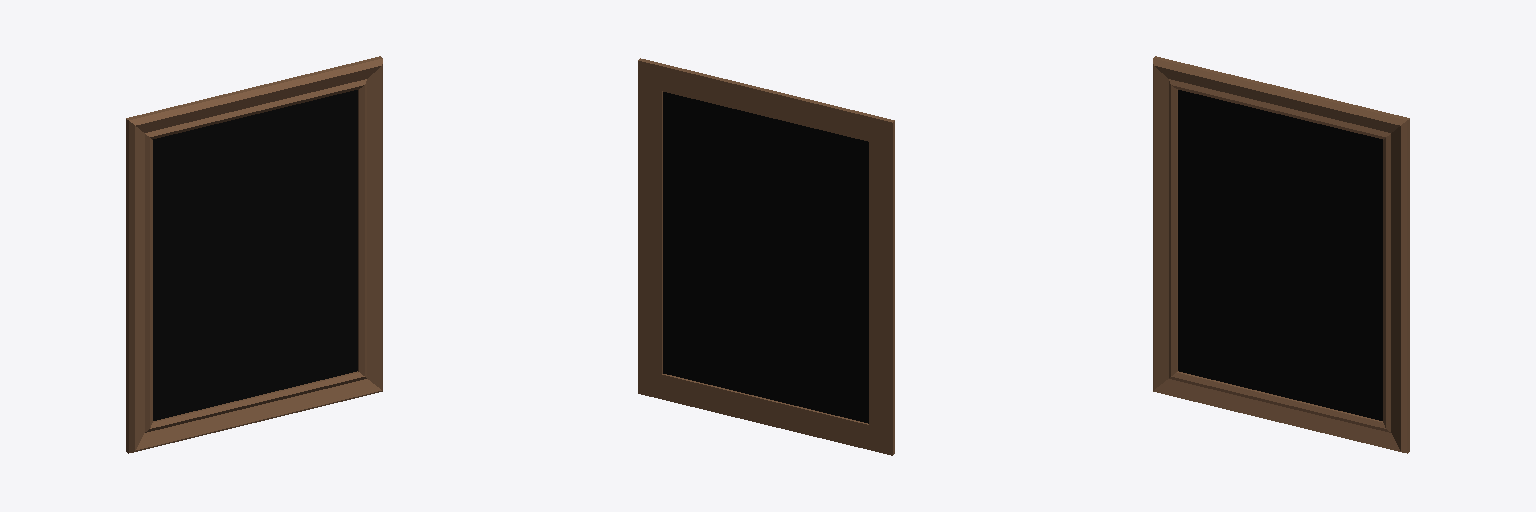
The model's file is Prop_Misc_Picture_Portrait.obj.
The picture shows the model from 3 angles: view 1: azimuth 30°, elevation 25°; view 2: azimuth 150°, elevation 25°; view 3: azimuth 330°, elevation 25°; orthographic projection.
Parts seen in each view (by area): view 1: object1, object2; view 2: object1, object2; view 3: object1, object2.
Part boxes in pixels (x1,y1,x2,y2): object1: (153,90,357,420); object2: (126,56,382,453); object1: (663,92,868,423); object2: (638,58,894,455); object1: (1178,90,1382,420); object2: (1153,56,1409,453).
Size of the model in its own units: 0.8 by 1 by 0.0312.